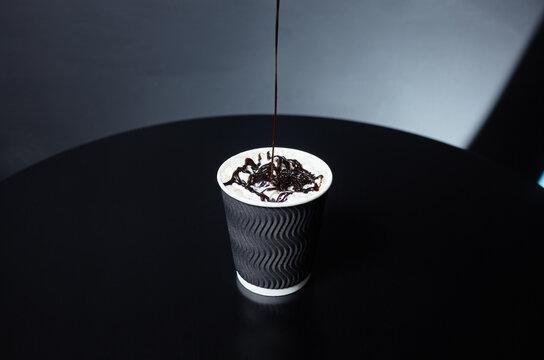cup-disposable: (215, 144, 334, 303)
